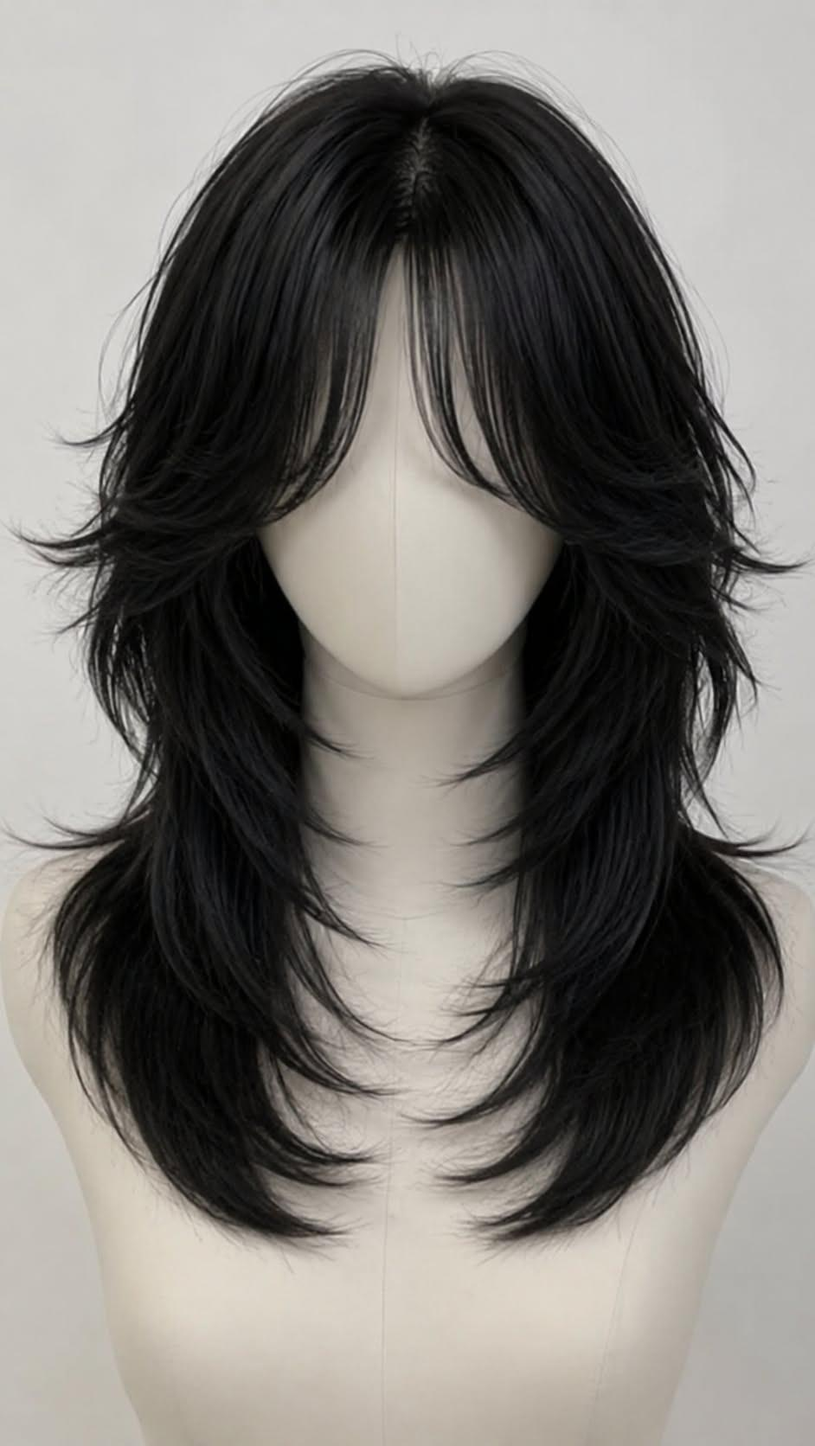non-dog: (0, 51, 815, 1446)
